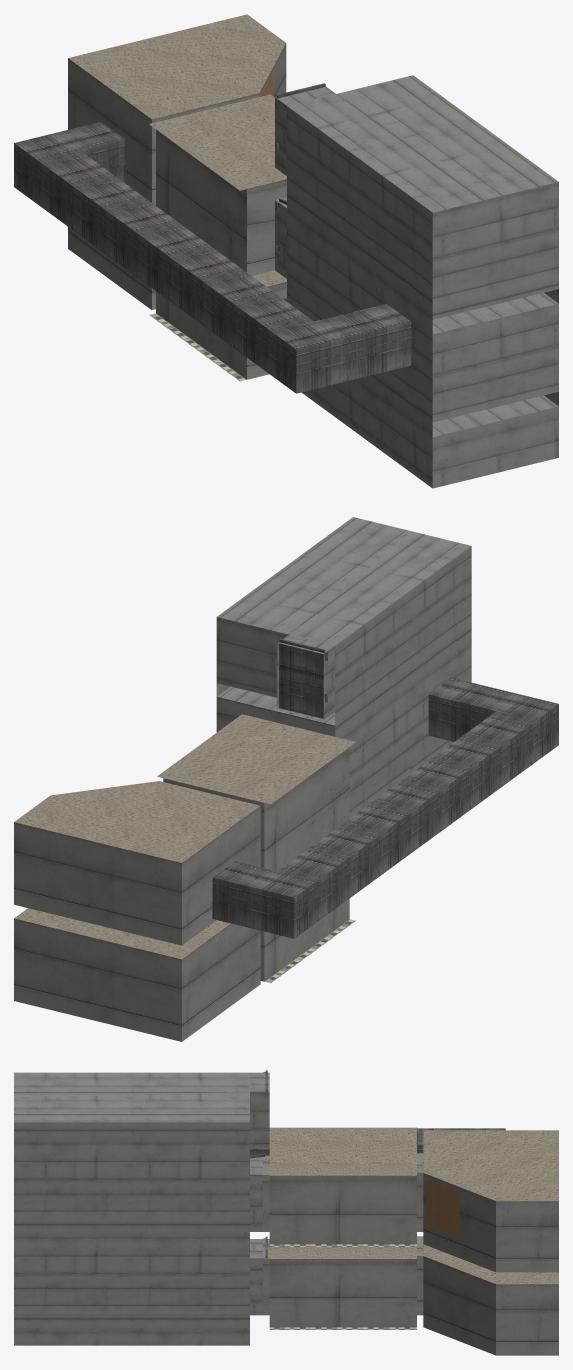
Rendered from cuarto.fbx.
3 views of the same model, one above another, from view 1: azimuth 30°, elevation 25°; view 2: azimuth 150°, elevation 25°; view 3: azimuth 270°, elevation 25° (orthographic). The views are drawn at different scales.
Parts seen in each view (by area): view 1: Paredes_002, Plane, Techo_000, Paredes_003, Paredes_001, Suelo_001; view 2: Paredes_002, Plane, Paredes_003, Paredes_001, Techo_000, Puertas_005, Techo_001; view 3: Paredes_002, Paredes_001, Paredes_003, Techo_000, Techo_001, Muebles_006, Plane, Suelo_000, Suelo_001.
Boxes of the visible parts, <box> form: Paredes_002: <box>275,75,558,488</box>; Plane: <box>14,122,411,393</box>; Techo_000: <box>68,14,286,190</box>; Paredes_003: <box>68,43,286,275</box>; Paredes_001: <box>68,227,286,379</box>; Suelo_001: <box>149,313,246,381</box>; Paredes_002: <box>216,517,471,818</box>; Plane: <box>212,677,558,938</box>; Paredes_003: <box>14,747,349,945</box>; Paredes_001: <box>14,898,349,1041</box>; Techo_000: <box>14,714,355,862</box>; Puertas_005: <box>279,638,327,718</box>; Techo_001: <box>14,908,230,959</box>; Paredes_002: <box>14,1072,269,1345</box>; Paredes_001: <box>263,1236,558,1355</box>; Paredes_003: <box>263,1153,558,1272</box>; Techo_000: <box>269,1127,558,1201</box>; Techo_001: <box>269,1244,558,1284</box>; Muebles_006: <box>426,1178,459,1238</box>; Plane: <box>250,1128,505,1155</box>; Suelo_000: <box>269,1244,416,1246</box>; Suelo_001: <box>269,1327,416,1329</box>.
Size of the model in its own units: 29969 by 30000 by 65676.
9 materials, 8 textured.
